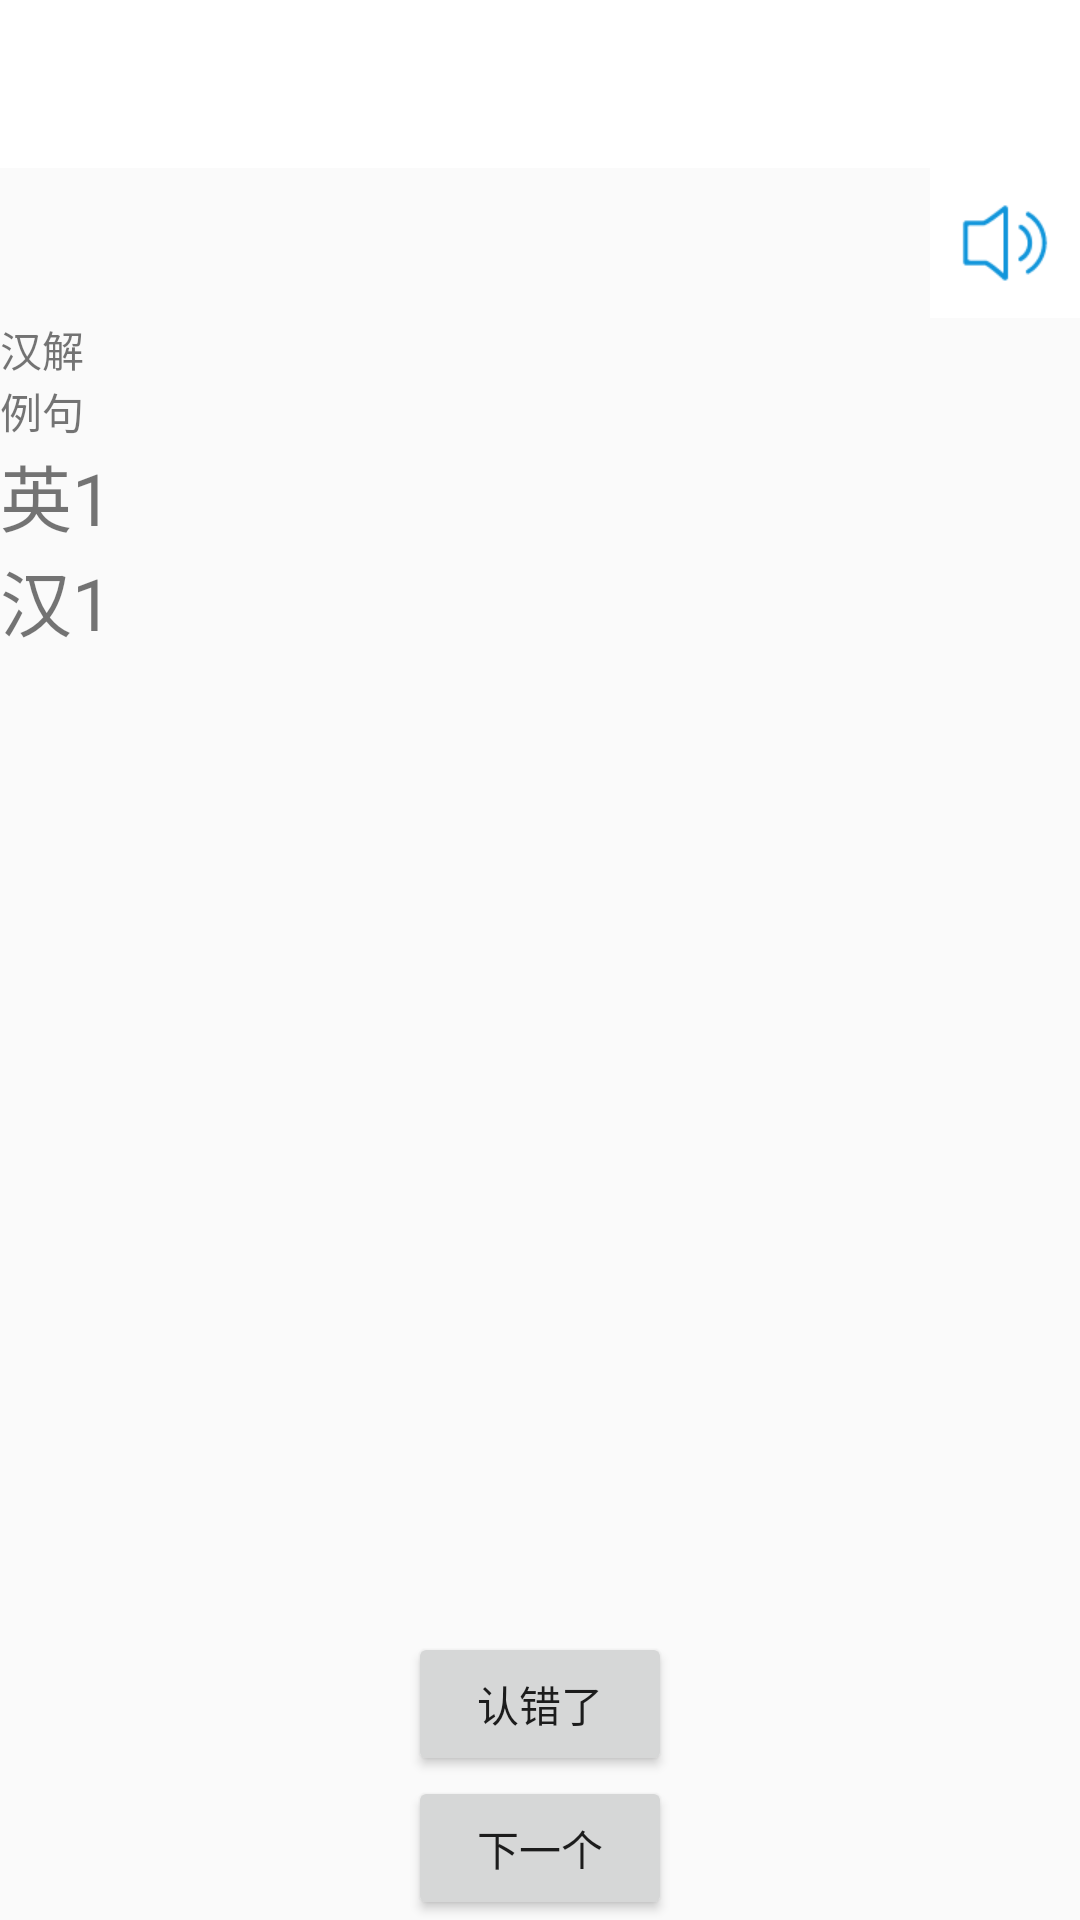

Screen size 1080px×1920px. Icon name, then its center in pixels as (x,y):
voice: (1005,243)
